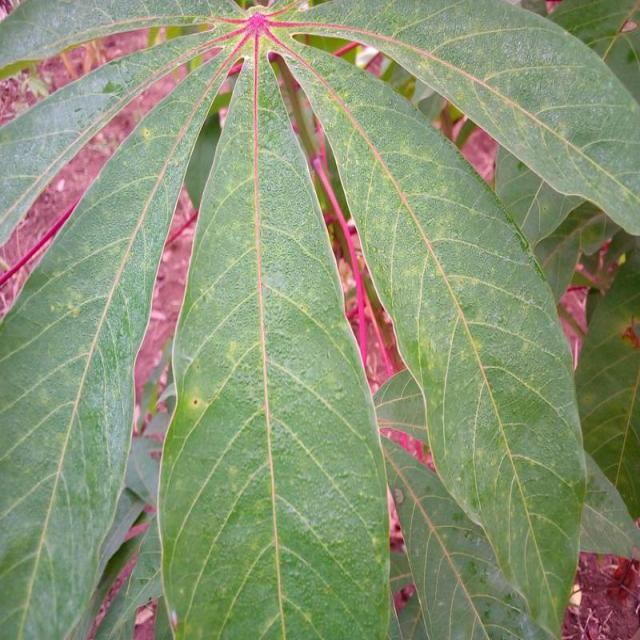cassava leaf: (1, 1, 637, 638), (273, 33, 588, 638), (155, 41, 392, 638)
